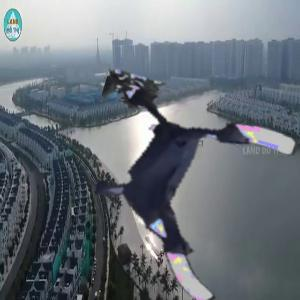drone: (78, 91, 285, 298)
